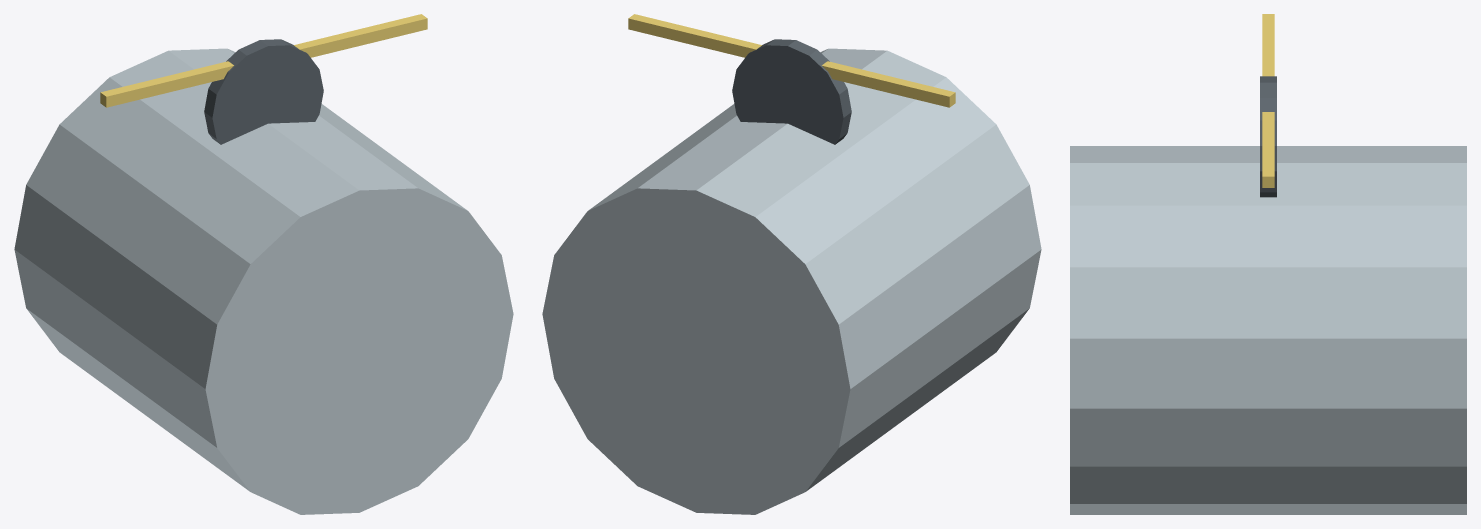
The model's file is tank_lod0.glb.
3 renders of one model, left to right at view 1: azimuth 30°, elevation 25°; view 2: azimuth 150°, elevation 25°; view 3: azimuth 270°, elevation 25°, orthographic. The views are drawn at different scales.
Parts seen in each view (by area): view 1: part_0, part_1, part_2; view 2: part_0, part_1, part_2; view 3: part_0, part_2, part_1.
Part boxes in pixels (x1=…): part_0: x1=14, y1=48, x2=513, y2=514; part_1: x1=204, y1=39, x2=323, y2=144; part_2: x1=100, y1=14, x2=427, y2=107; part_0: x1=542, y1=48, x2=1041, y2=514; part_1: x1=732, y1=39, x2=851, y2=144; part_2: x1=628, y1=14, x2=955, y2=107; part_0: x1=1070, y1=146, x2=1466, y2=514; part_2: x1=1262, y1=14, x2=1274, y2=187; part_1: x1=1260, y1=76, x2=1276, y2=197.
Size of the model in its own units: 4.9 by 5.83 by 5.05.
